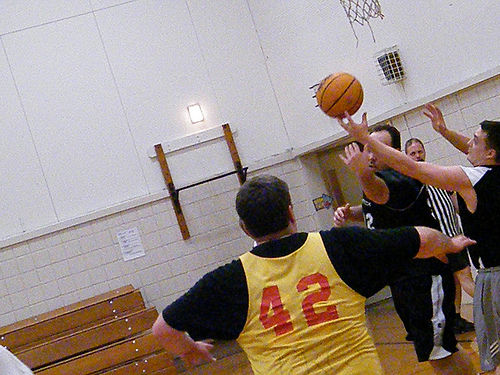basketball: (316, 73, 363, 119)
